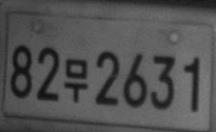1: (181, 57, 206, 113)
2: (93, 50, 120, 106), (35, 46, 60, 102)
3: (150, 55, 176, 110)
6: (122, 53, 147, 107)
8: (9, 43, 32, 98)
무: (64, 58, 88, 103)
